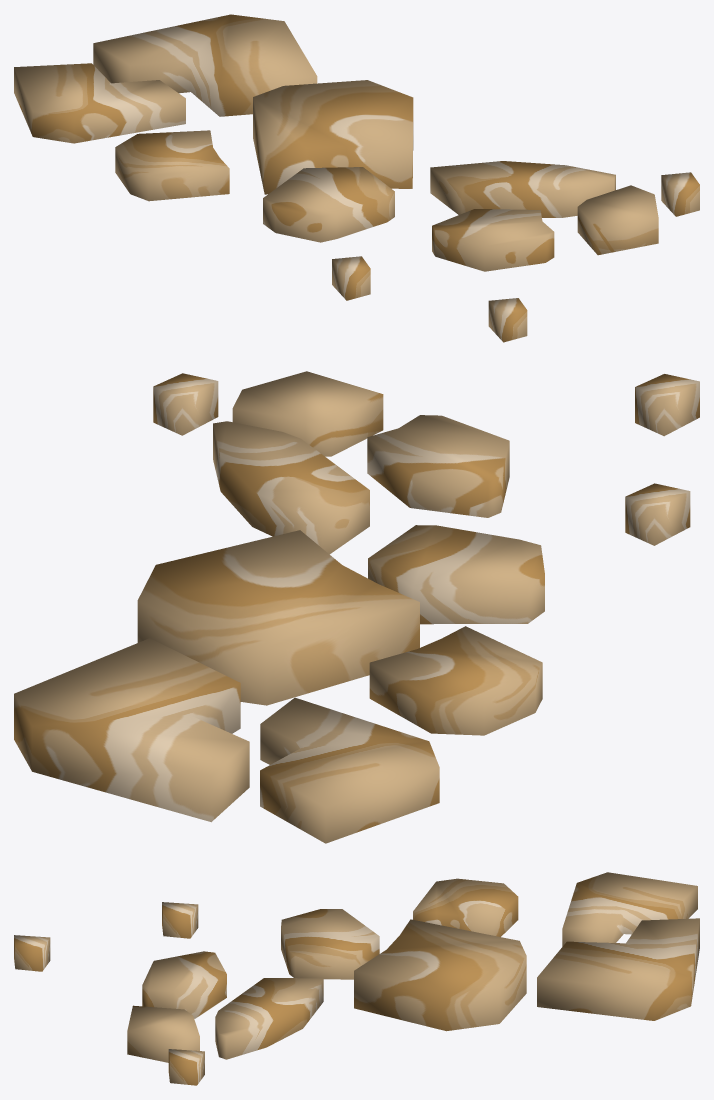
File: SM_environment_rocks03_mar30.fbx
3 renders of one model, top to bottom at view 1: azimuth 30°, elevation 25°; view 2: azimuth 150°, elevation 25°; view 3: azimuth 270°, elevation 25°, orthographic. The views are drawn at different scales.
Visible parts, largest first — view 1: SM_environment_rocks03; view 2: SM_environment_rocks03; view 3: SM_environment_rocks03.
Part boxes in pixels (bbox=[...]): SM_environment_rocks03: bbox=[14, 14, 699, 342]; SM_environment_rocks03: bbox=[14, 371, 699, 843]; SM_environment_rocks03: bbox=[14, 872, 699, 1085].
Size of the model in its own units: 1057 by 97.24 by 1610.
